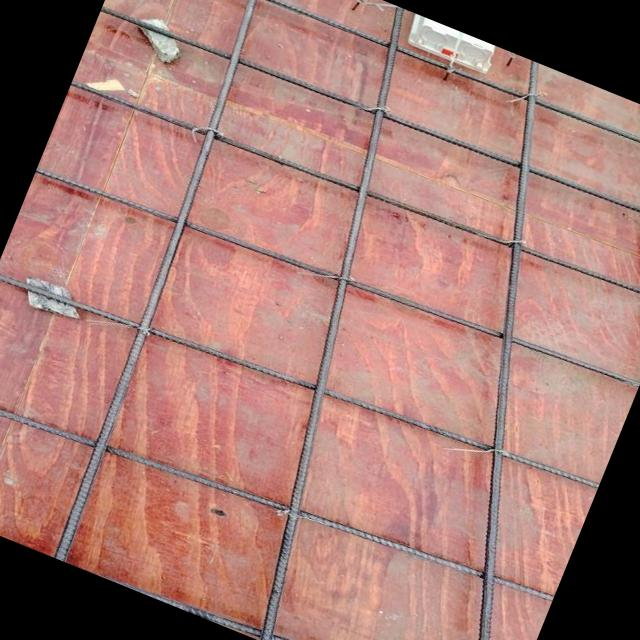ribbed bar: (155, 5, 509, 640), (287, 58, 640, 640), (0, 242, 598, 518), (34, 140, 640, 412), (23, 0, 304, 561), (0, 354, 553, 637), (69, 58, 640, 325), (100, 0, 640, 250), (124, 0, 640, 188), (96, 551, 504, 640), (587, 112, 640, 325)
